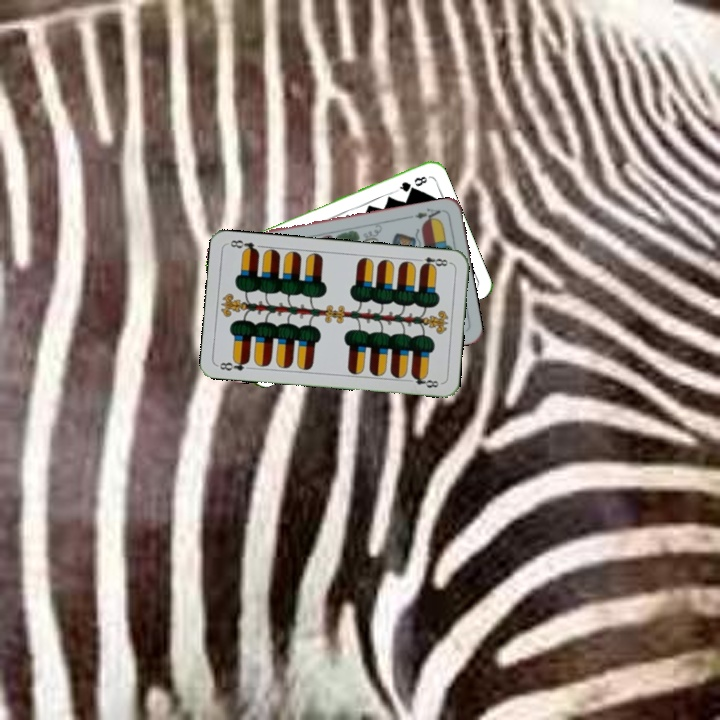E8: (413, 253, 453, 271), (215, 355, 252, 373)
EA: (411, 204, 446, 225)
G8: (392, 172, 430, 194)
